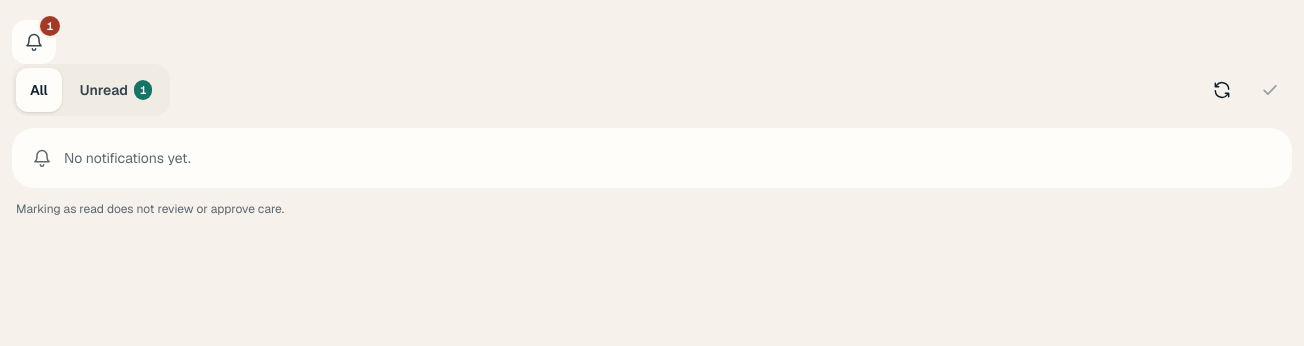
Test case: patient notification centre › disables empty snapshots and preserves uncertainty on expired read snapshots
This screenshot has width=1304, height=346.
Expected: the text "No notifications yet." is shown, 12,128 -> 1292,188
Expected: the button named "Mark displayed as read" is disabled, 1248,68 -> 1292,112
Click the button named "Refresh". click: (1222, 90)
box: 1200,68 -> 1244,112
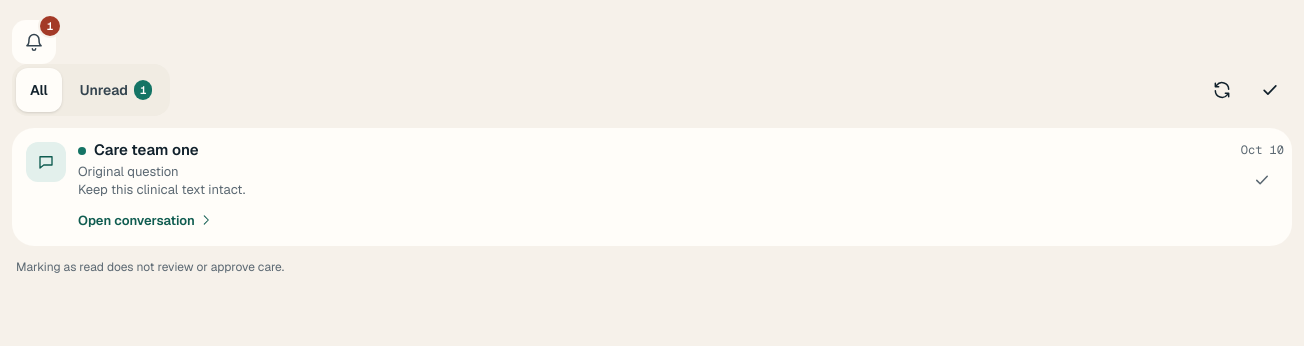
Expected: the heading "Care team one" is shown, 94,140 -> 199,159
Click the button named "Mark displayed as read". click: (1270, 90)
box: 1248,68 -> 1292,112
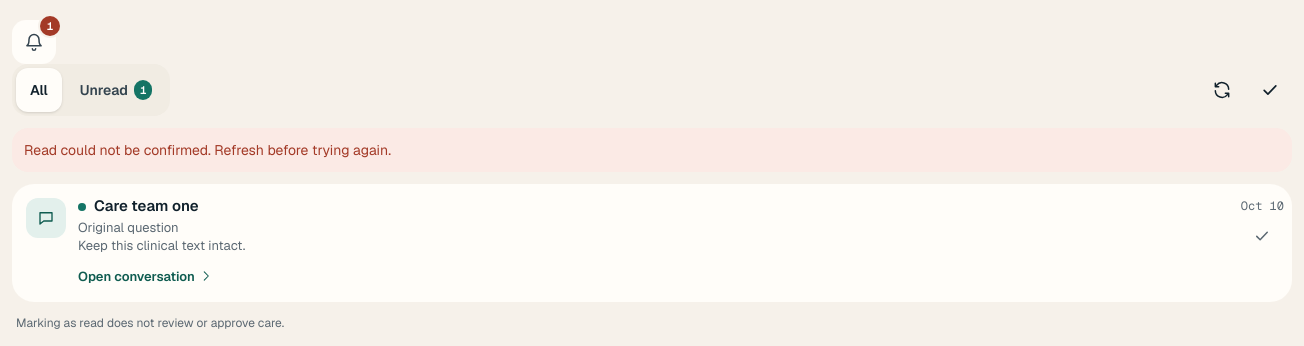
Expected: the heading "Care team one" is shown, 94,196 -> 199,215
Expected: the text "Read could not be confirmed. Refresh before trying again." is shown, 12,128 -> 1292,172
